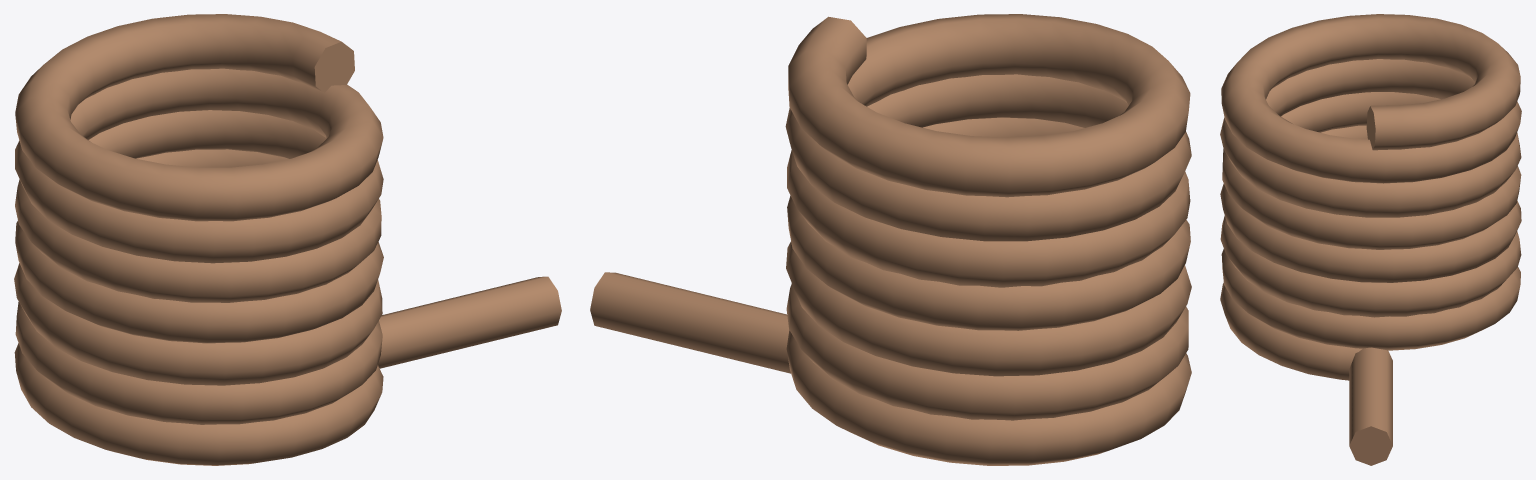
The model's file is scavengers-loot-library-copper-coil-ecaf8782__2496.glb.
The picture shows the model from 3 angles, left to right: view 1: azimuth 30°, elevation 25°; view 2: azimuth 150°, elevation 25°; view 3: azimuth 270°, elevation 25°; orthographic projection. The views are drawn at different scales.
Parts seen in each view (by area): view 1: copper-coil; view 2: copper-coil; view 3: copper-coil.
Boxes of the visible parts, x1,y1,x2,y2 form: copper-coil: [14, 14, 561, 465]; copper-coil: [590, 14, 1191, 465]; copper-coil: [1220, 14, 1521, 465].
Bounding box in the file's own units: 0.1313 × 0.0822 × 0.0825.
